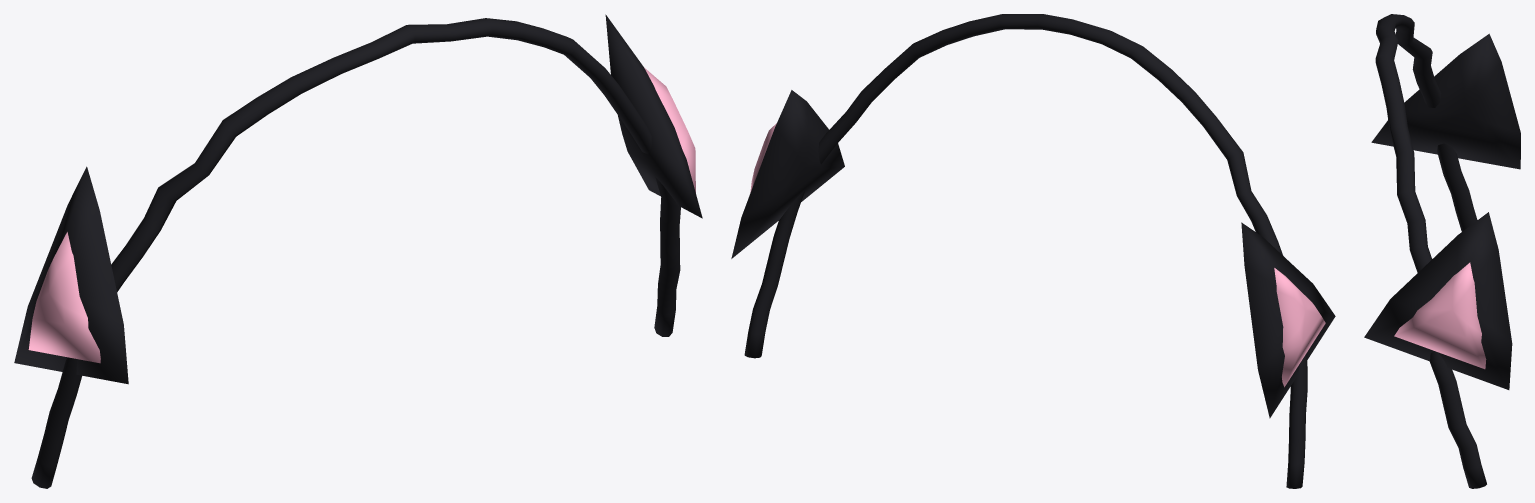
The model's file is cat_ears.glb.
The picture shows the model from 3 angles, left to right: view 1: azimuth 30°, elevation 25°; view 2: azimuth 150°, elevation 25°; view 3: azimuth 270°, elevation 25°; orthographic projection. The views are drawn at different scales.
Visible parts, largest first — view 1: cat_ears; view 2: cat_ears; view 3: cat_ears.
Part boxes in pixels (left/top/right/bottom): cat_ears: left=14, top=14, right=702, bottom=488; cat_ears: left=731, top=14, right=1335, bottom=488; cat_ears: left=1364, top=14, right=1520, bottom=488.
Bounding box in the file's own units: 0.2622 × 0.1654 × 0.0707.
